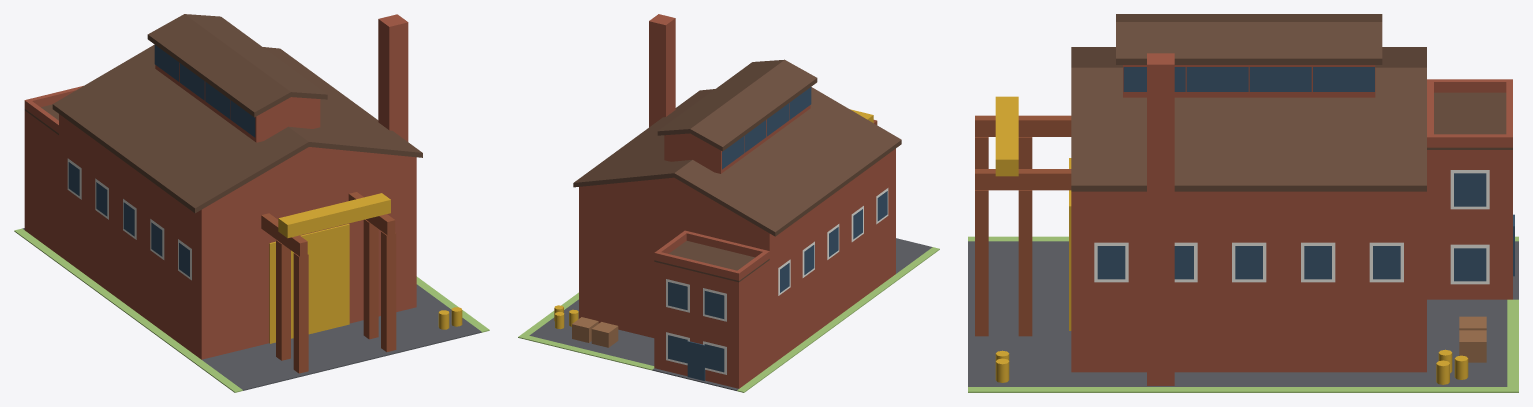
3 renders of one model, left to right at view 1: azimuth 30°, elevation 25°; view 2: azimuth 150°, elevation 25°; view 3: azimuth 270°, elevation 25°, orthographic. The views are drawn at different scales.
Parts seen in each view (by area): view 1: wall, roof (×4), asphalt, leg (×4), garage_door, office, gable, smoke_stack, lawn (×2), crane, monitor, window_band (×4) (+2 smaller); view 2: wall, roof (×5), office, gable, asphalt, smoke_stack, lawn (×3), window_glass (×4), monitor, parapet (×2), window_band (×4), pallet (×2) (+1 smaller); view 3: wall, roof (×5), asphalt, office, smoke_stack, window_glass (×7), window_band (×4), lawn (×3), leg (×3), crane_rail (×2), window_frame (×6), parapet (×4) (+3 smaller).
Part boxes in pixels (<box>): wall: <box>59,114,416,359</box>; roof (×4): <box>52,14,422,213</box>; asphalt: <box>202,284,481,390</box>; leg (×4): <box>276,219,396,373</box>; garage_door: <box>269,224,349,343</box>; office: <box>24,110,58,254</box>; gable: <box>202,147,415,209</box>; smoke_stack: <box>378,14,408,141</box>; lawn (×2): <box>14,228,489,392</box>; crane: <box>278,193,390,238</box>; monitor: <box>155,63,320,142</box>; window_band (×4): <box>154,45,255,137</box>; wall: <box>579,148,895,365</box>; roof (×5): <box>573,59,901,282</box>; office: <box>654,260,769,388</box>; gable: <box>580,177,768,232</box>; asphalt: <box>529,238,932,365</box>; smoke_stack: <box>649,14,675,127</box>; lawn (×3): <box>518,247,939,392</box>; window_glass (×4): <box>668,282,724,372</box>; monitor: <box>664,103,810,173</box>; parapet (×2): <box>654,230,769,280</box>; window_band (×4): <box>722,87,811,169</box>; pallet (×2): <box>572,317,618,347</box>; wall: <box>1071,191,1426,372</box>; roof (×5): <box>1071,14,1512,191</box>; asphalt: <box>968,241,1507,386</box>; office: <box>1427,150,1512,299</box>; smoke_stack: <box>1147,53,1174,385</box>; window_glass (×7): <box>1097,173,1486,281</box>; window_band (×4): <box>1123,67,1374,91</box>; lawn (×3): <box>968,236,1518,392</box>; leg (×3): <box>975,137,1032,336</box>; crane_rail (×2): <box>975,115,1071,190</box>; window_frame (×6): <box>1094,170,1489,284</box>; parapet (×4): <box>1427,79,1512,147</box>.
Size of the model in its own units: 16 by 15.5 by 24.
